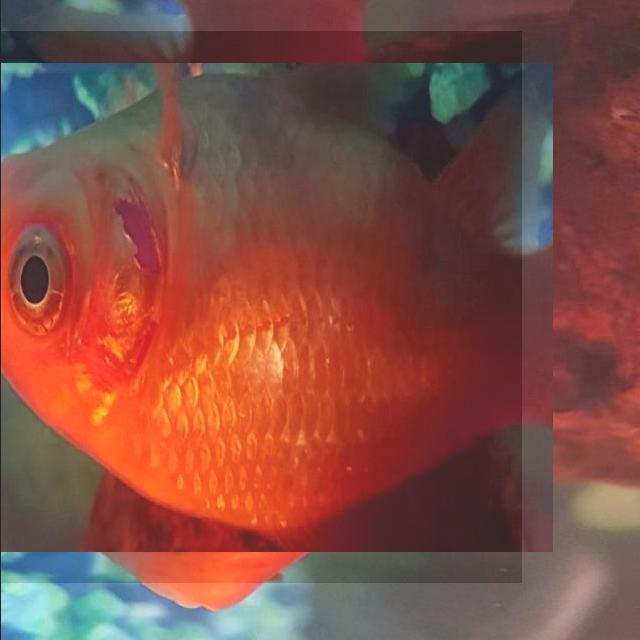Gill Disease: (0, 31, 521, 583)
